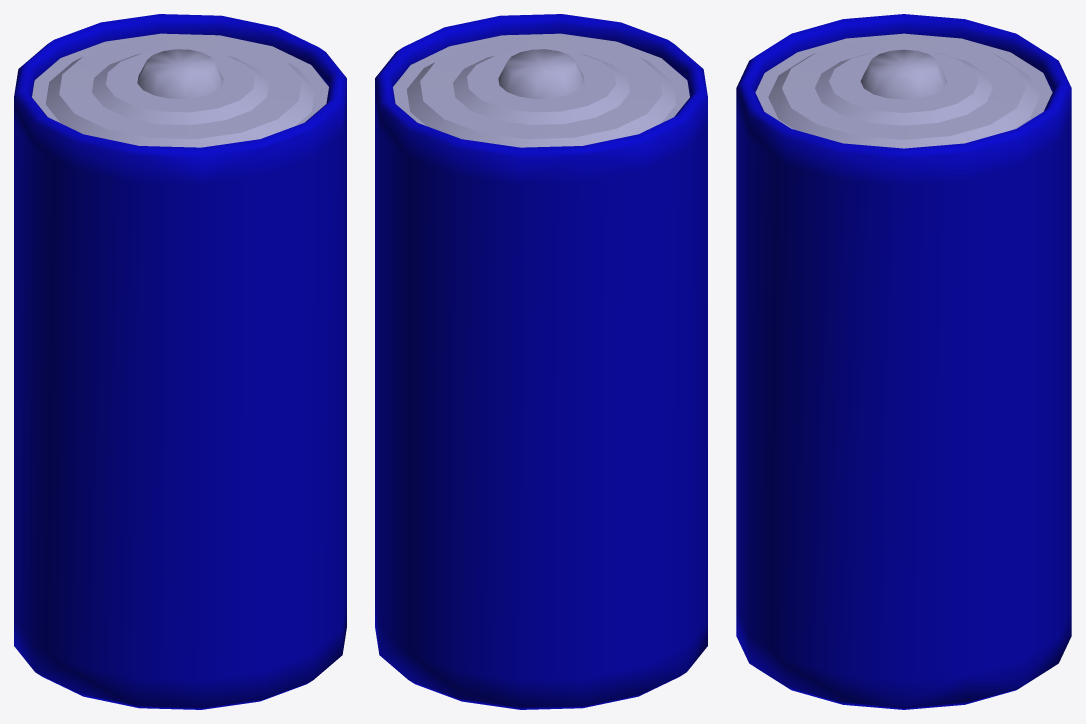
File: battery.obj
3 views of the same model, side by side, from view 1: azimuth 30°, elevation 25°; view 2: azimuth 150°, elevation 25°; view 3: azimuth 270°, elevation 25° (orthographic).
Bounding box in the file's own units: 0.2051 × 0.3905 × 0.2051.
